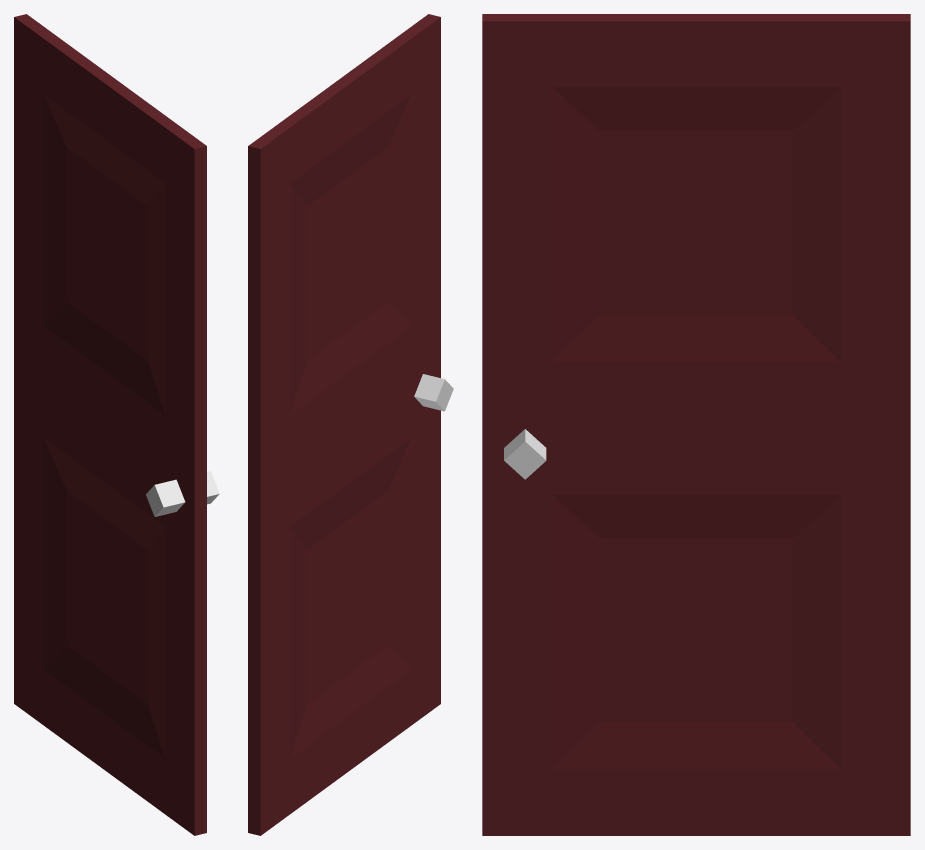
Rendered from sm_door.fbx.
3 renders of one model, left to right at view 1: azimuth 30°, elevation 25°; view 2: azimuth 150°, elevation 25°; view 3: azimuth 270°, elevation 25°, orthographic. The views are drawn at different scales.
Parts seen in each view (by area): view 1: sm_door; view 2: sm_door; view 3: sm_door.
Boxes of the visible parts, box(x1,y1,x2,y2) form: sm_door: box(14, 14, 219, 835); sm_door: box(248, 14, 453, 835); sm_door: box(482, 14, 910, 835).
Bounding box in the file's own units: 18 × 210 × 100.
